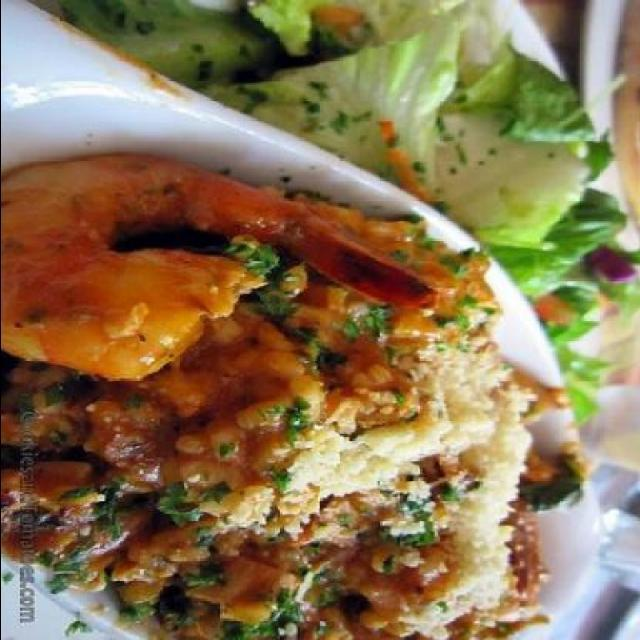Risotto: (23, 232, 503, 623)
